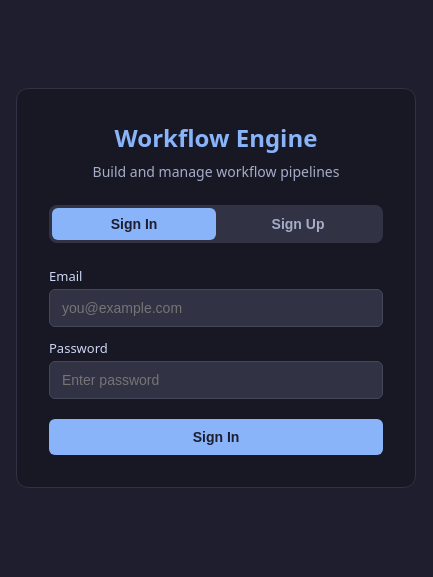
Test: LoginPage › shows confirm password and display name fields in sign-up mode
Click the button "Sign Up" at (298, 224), box 216,208 -> 380,240
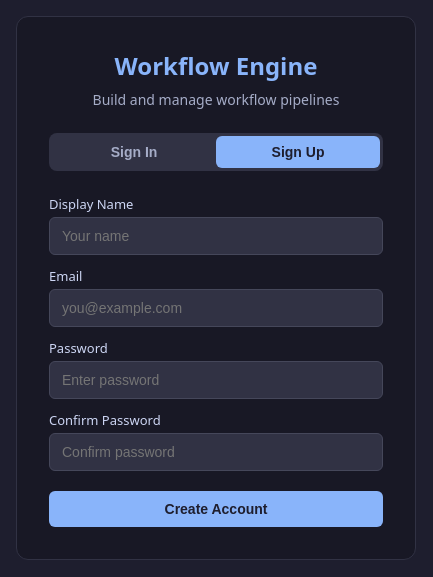
Now the password field with placeholder "Confirm password" is shown, box 49,433 -> 383,471
Now the field with placeholder "Your name" is shown, box 49,217 -> 383,255
